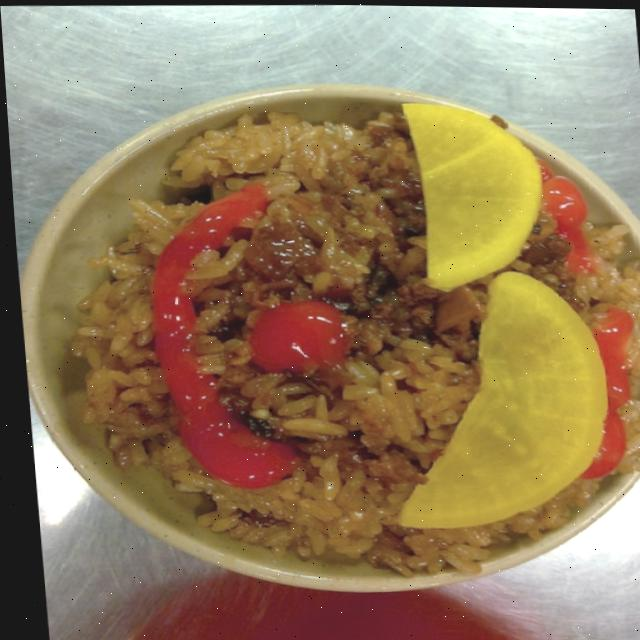米饭主食: (2, 30, 640, 620)
